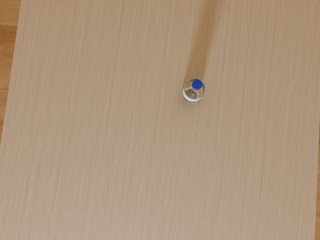bottle: (181, 78, 205, 106)
